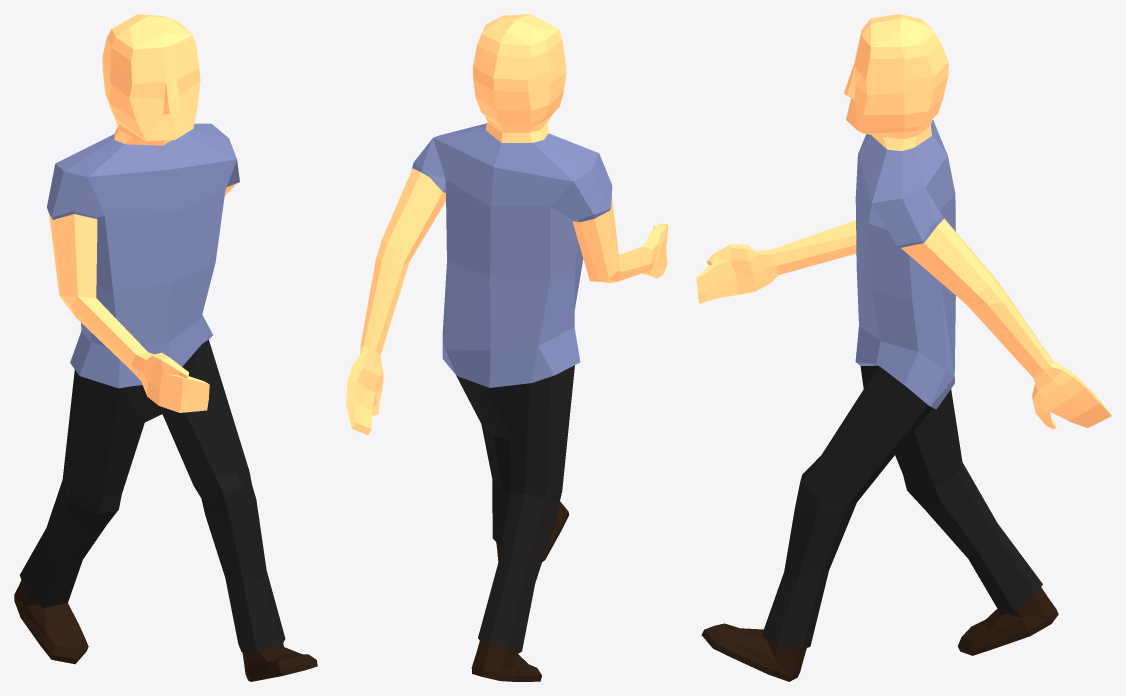
The model's file is male_running.glb.
3 views of the same model, side by side, from view 1: azimuth 30°, elevation 25°; view 2: azimuth 150°, elevation 25°; view 3: azimuth 270°, elevation 25° (orthographic). The views are drawn at different scales.
Visible parts, largest first — view 1: Male_Running; view 2: Male_Running; view 3: Male_Running.
Boxes of the visible parts, left/top/right/bottom form: Male_Running: left=14, top=14, right=317, bottom=681; Male_Running: left=346, top=14, right=667, bottom=681; Male_Running: left=696, top=14, right=1111, bottom=681.
Size of the model in its own units: 0.5844 by 1.85 by 1.07.
